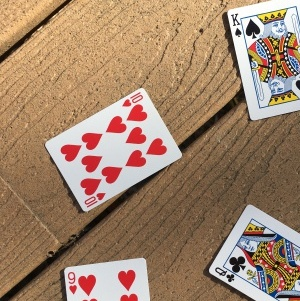card: (44, 88, 182, 213)
